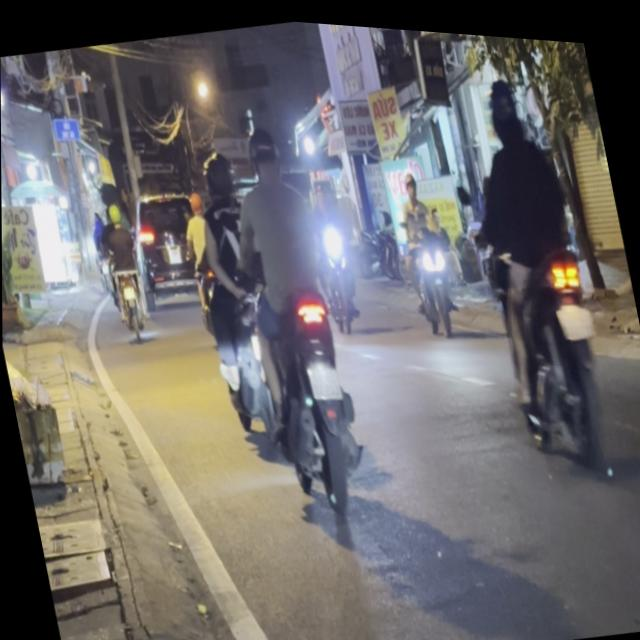helmet: (482, 64, 529, 139), (244, 114, 286, 175)
licenseplate: (445, 57, 627, 480), (205, 97, 381, 524)
nohelmet: (556, 290, 596, 332), (305, 355, 342, 396)
